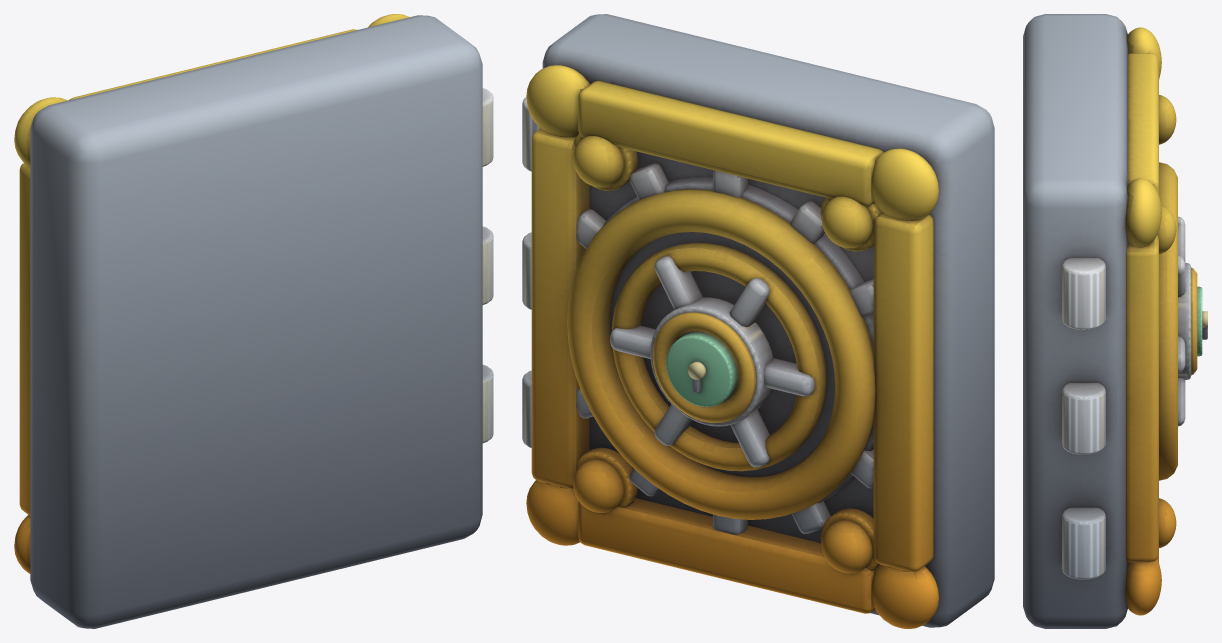
Rendered from SM_VaultDoor_01.fbx.
The picture shows the model from 3 angles, left to right: view 1: azimuth 30°, elevation 25°; view 2: azimuth 150°, elevation 25°; view 3: azimuth 270°, elevation 25°; orthographic projection. The views are drawn at different scales.
Parts seen in each view (by area): view 1: SM_VaultDoor_01; view 2: SM_VaultDoor_01; view 3: SM_VaultDoor_01.
Boxes of the visible parts, x1,y1,x2,y2 form: SM_VaultDoor_01: [14, 14, 493, 628]; SM_VaultDoor_01: [522, 14, 994, 628]; SM_VaultDoor_01: [1023, 14, 1207, 628].
Size of the model in its own units: 1.14 by 1.22 by 0.456.
1 material, 1 textured.
